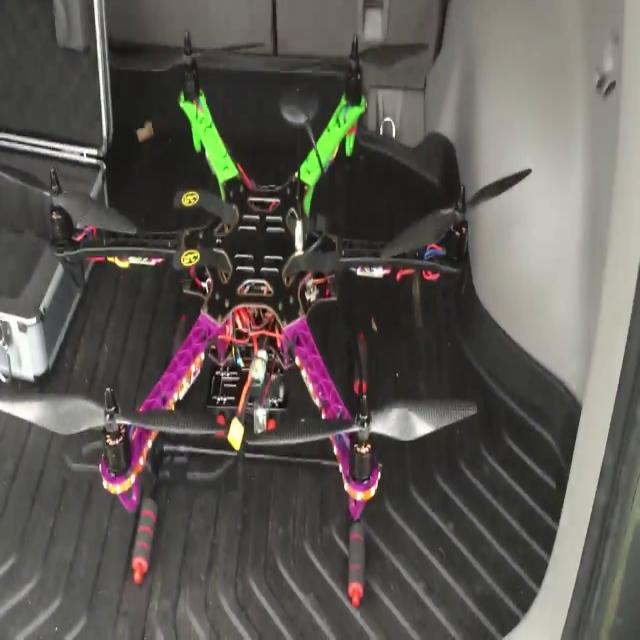drone: (44, 62, 470, 545)
